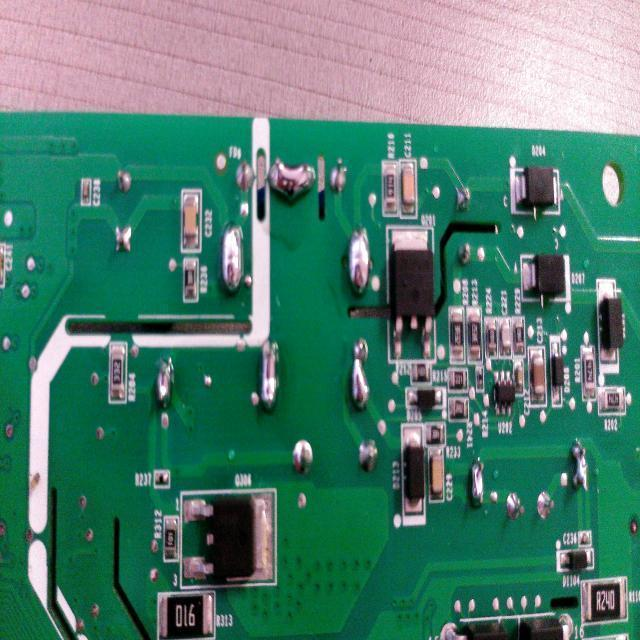Soldering shorted: (267, 154, 320, 210), (258, 334, 284, 423), (345, 221, 373, 299), (220, 220, 247, 300), (566, 436, 594, 496), (351, 336, 373, 410), (152, 354, 178, 414), (469, 454, 487, 512)
